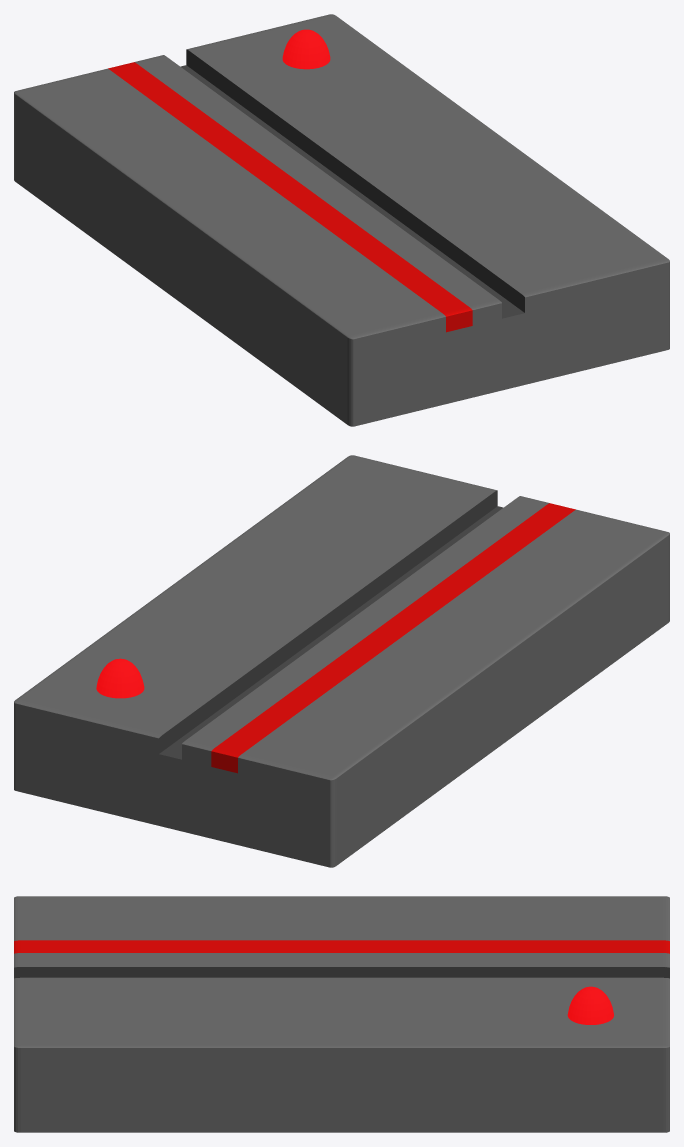
Rendered from RedKeyCardScannerRL.glb.
3 views of the same model, one above another, from view 1: azimuth 30°, elevation 25°; view 2: azimuth 150°, elevation 25°; view 3: azimuth 270°, elevation 25° (orthographic). The views are drawn at different scales.
Visible parts, largest first — view 1: Base, Light; view 2: Base, Light; view 3: Base, Light.
Boxes of the visible parts, x1=… form: Base: x1=14, y1=14, x2=669, y2=426; Light: x1=282, y1=29, x2=330, y2=69; Base: x1=14, y1=455, x2=669, y2=867; Light: x1=96, y1=658, x2=144, y2=698; Base: x1=14, y1=896, x2=669, y2=1132; Light: x1=567, y1=986, x2=613, y2=1024.
Size of the model in its own units: 0.055 by 0.0192 by 0.1006.
